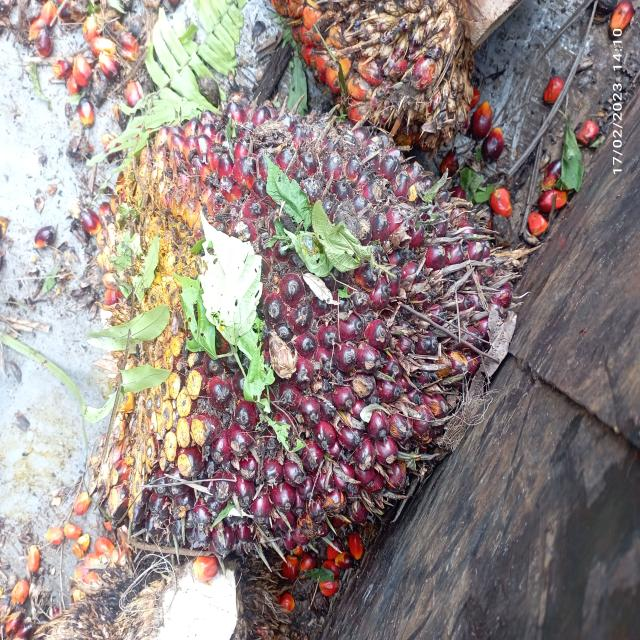fraksi 1: (82, 60, 545, 580)
